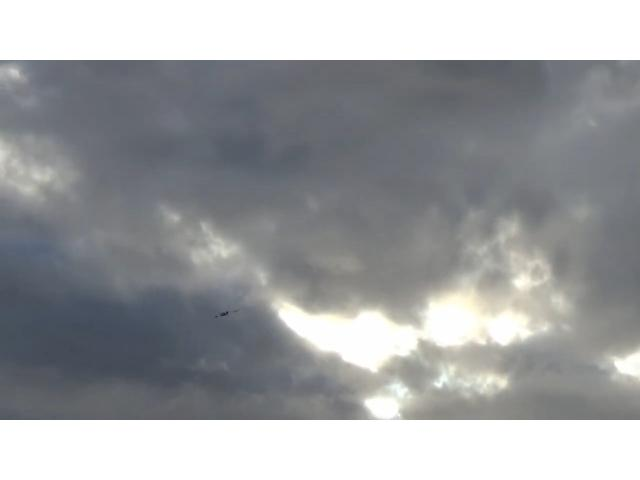Anti-Drone: (213, 308, 239, 319)
